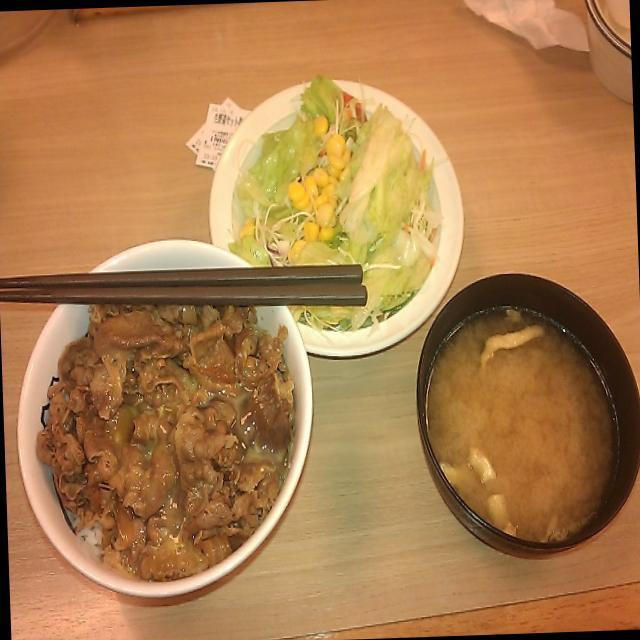Green Salad: (225, 97, 450, 270)
